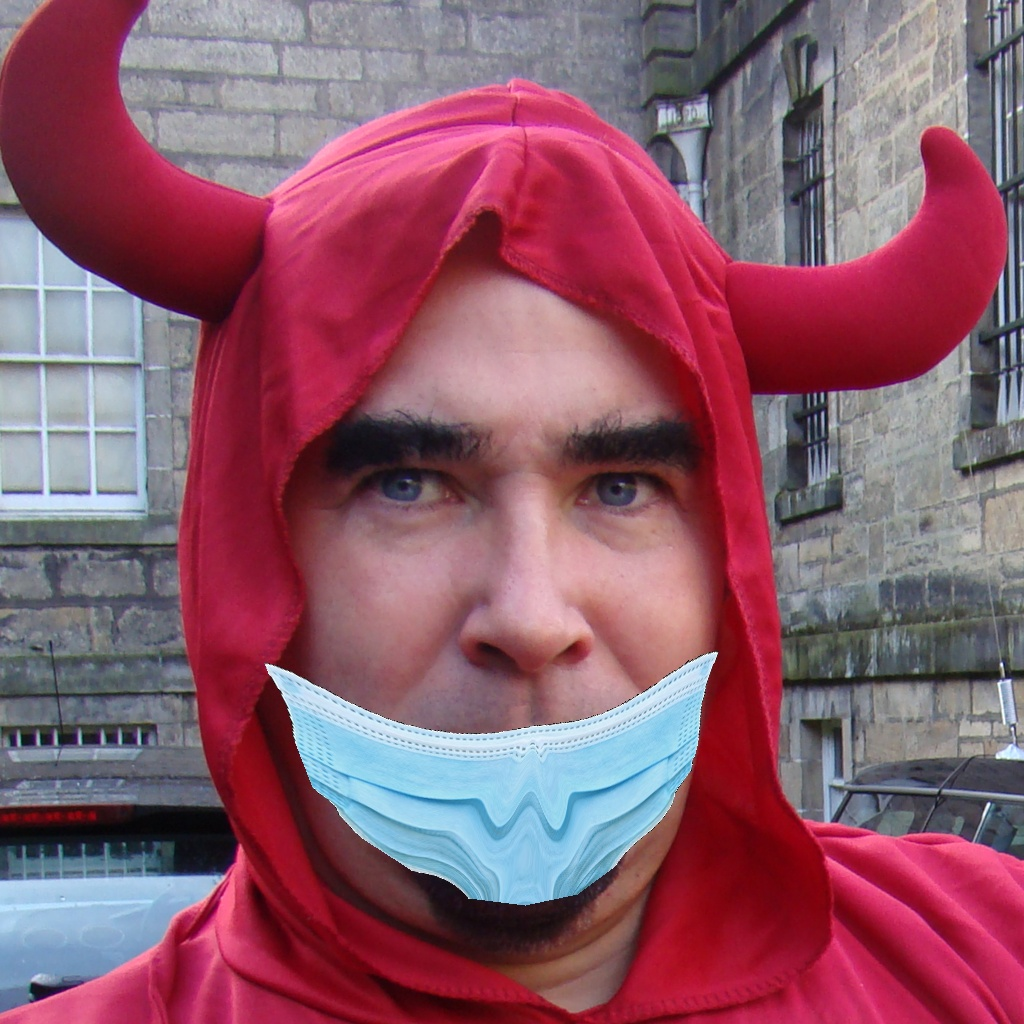mascarilla_mal_puesta: (214, 488, 834, 948)
